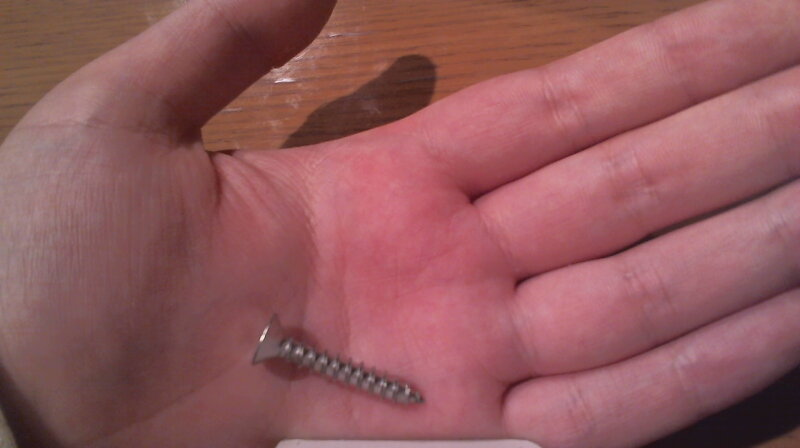S001: (247, 313, 428, 406)
